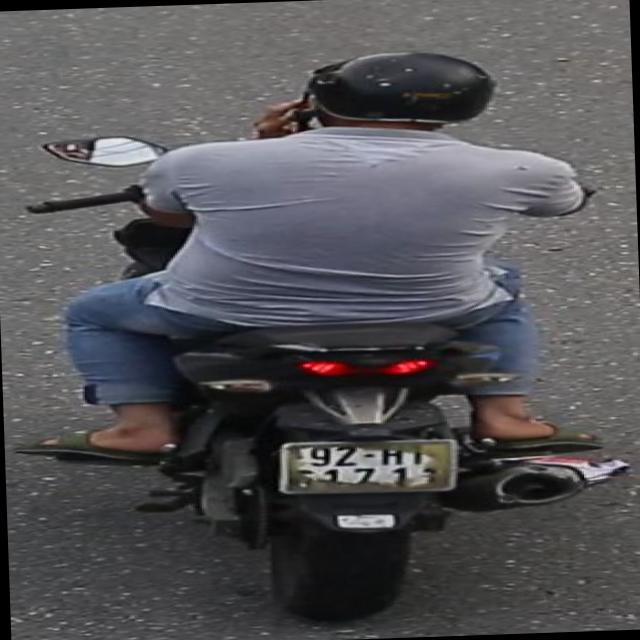LP: (268, 432, 466, 504)
helmet: (297, 42, 503, 139)
